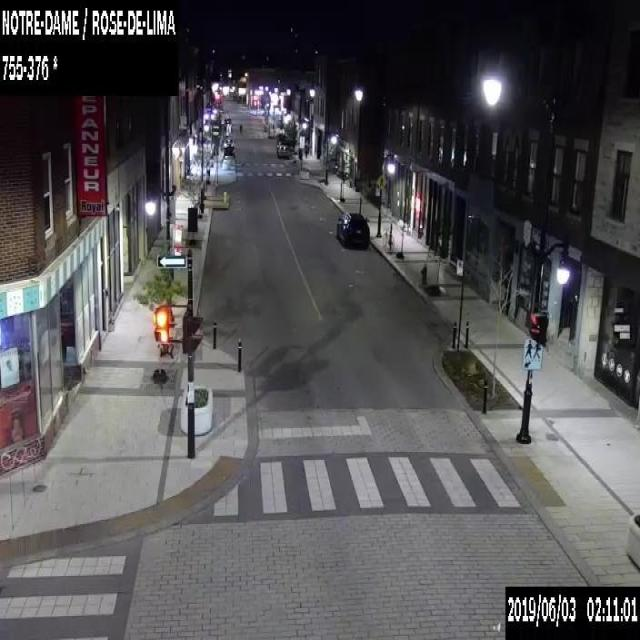pedestrian: (239, 123, 242, 134)
vehicle: (336, 212, 369, 249), (222, 144, 235, 157), (277, 145, 289, 158), (223, 117, 231, 130), (222, 138, 234, 146), (276, 140, 283, 149)
